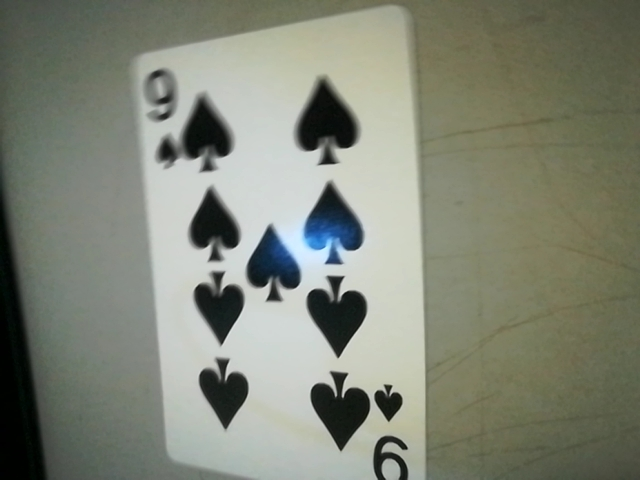ht 9: (363, 373, 422, 480)
